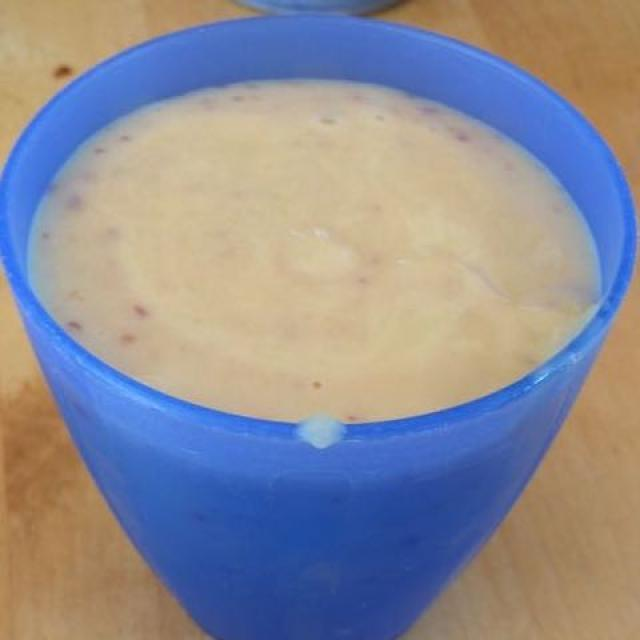smoothie: (36, 51, 596, 450)
